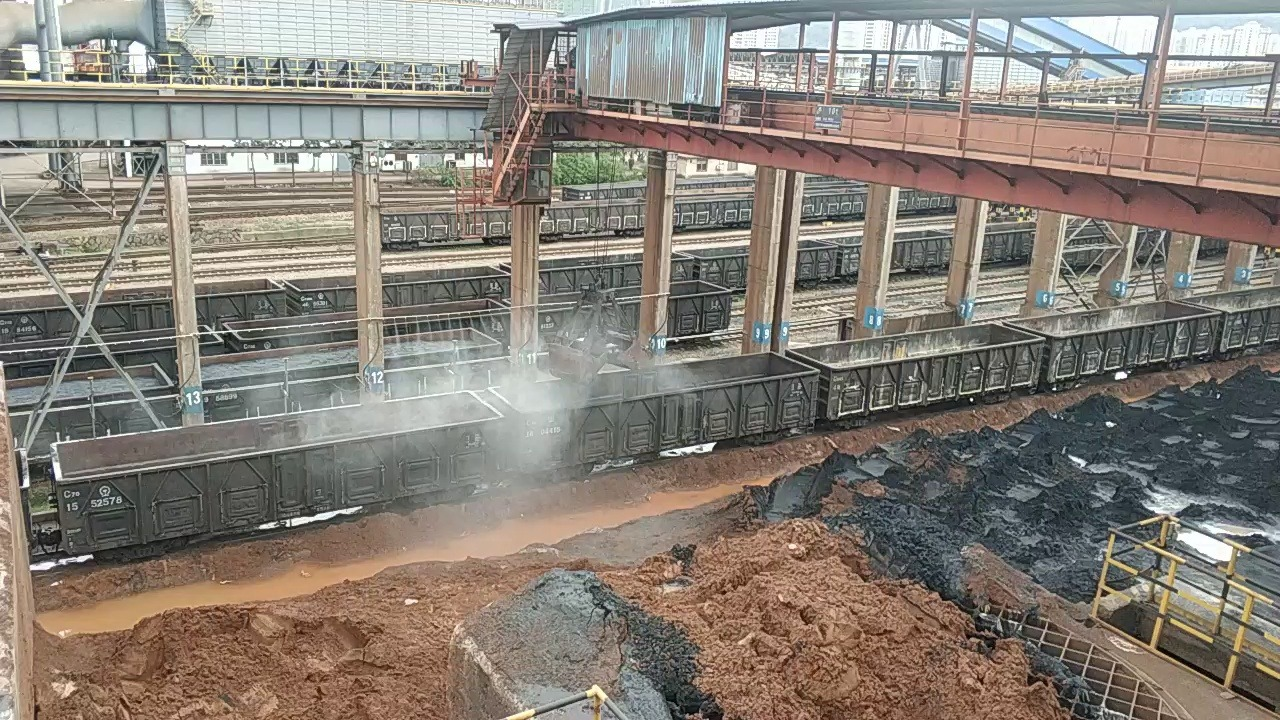dust: (245, 311, 712, 524)
grab: (548, 282, 656, 383)
